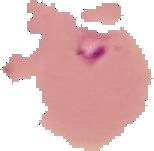parasitized: (75, 29, 128, 73)
